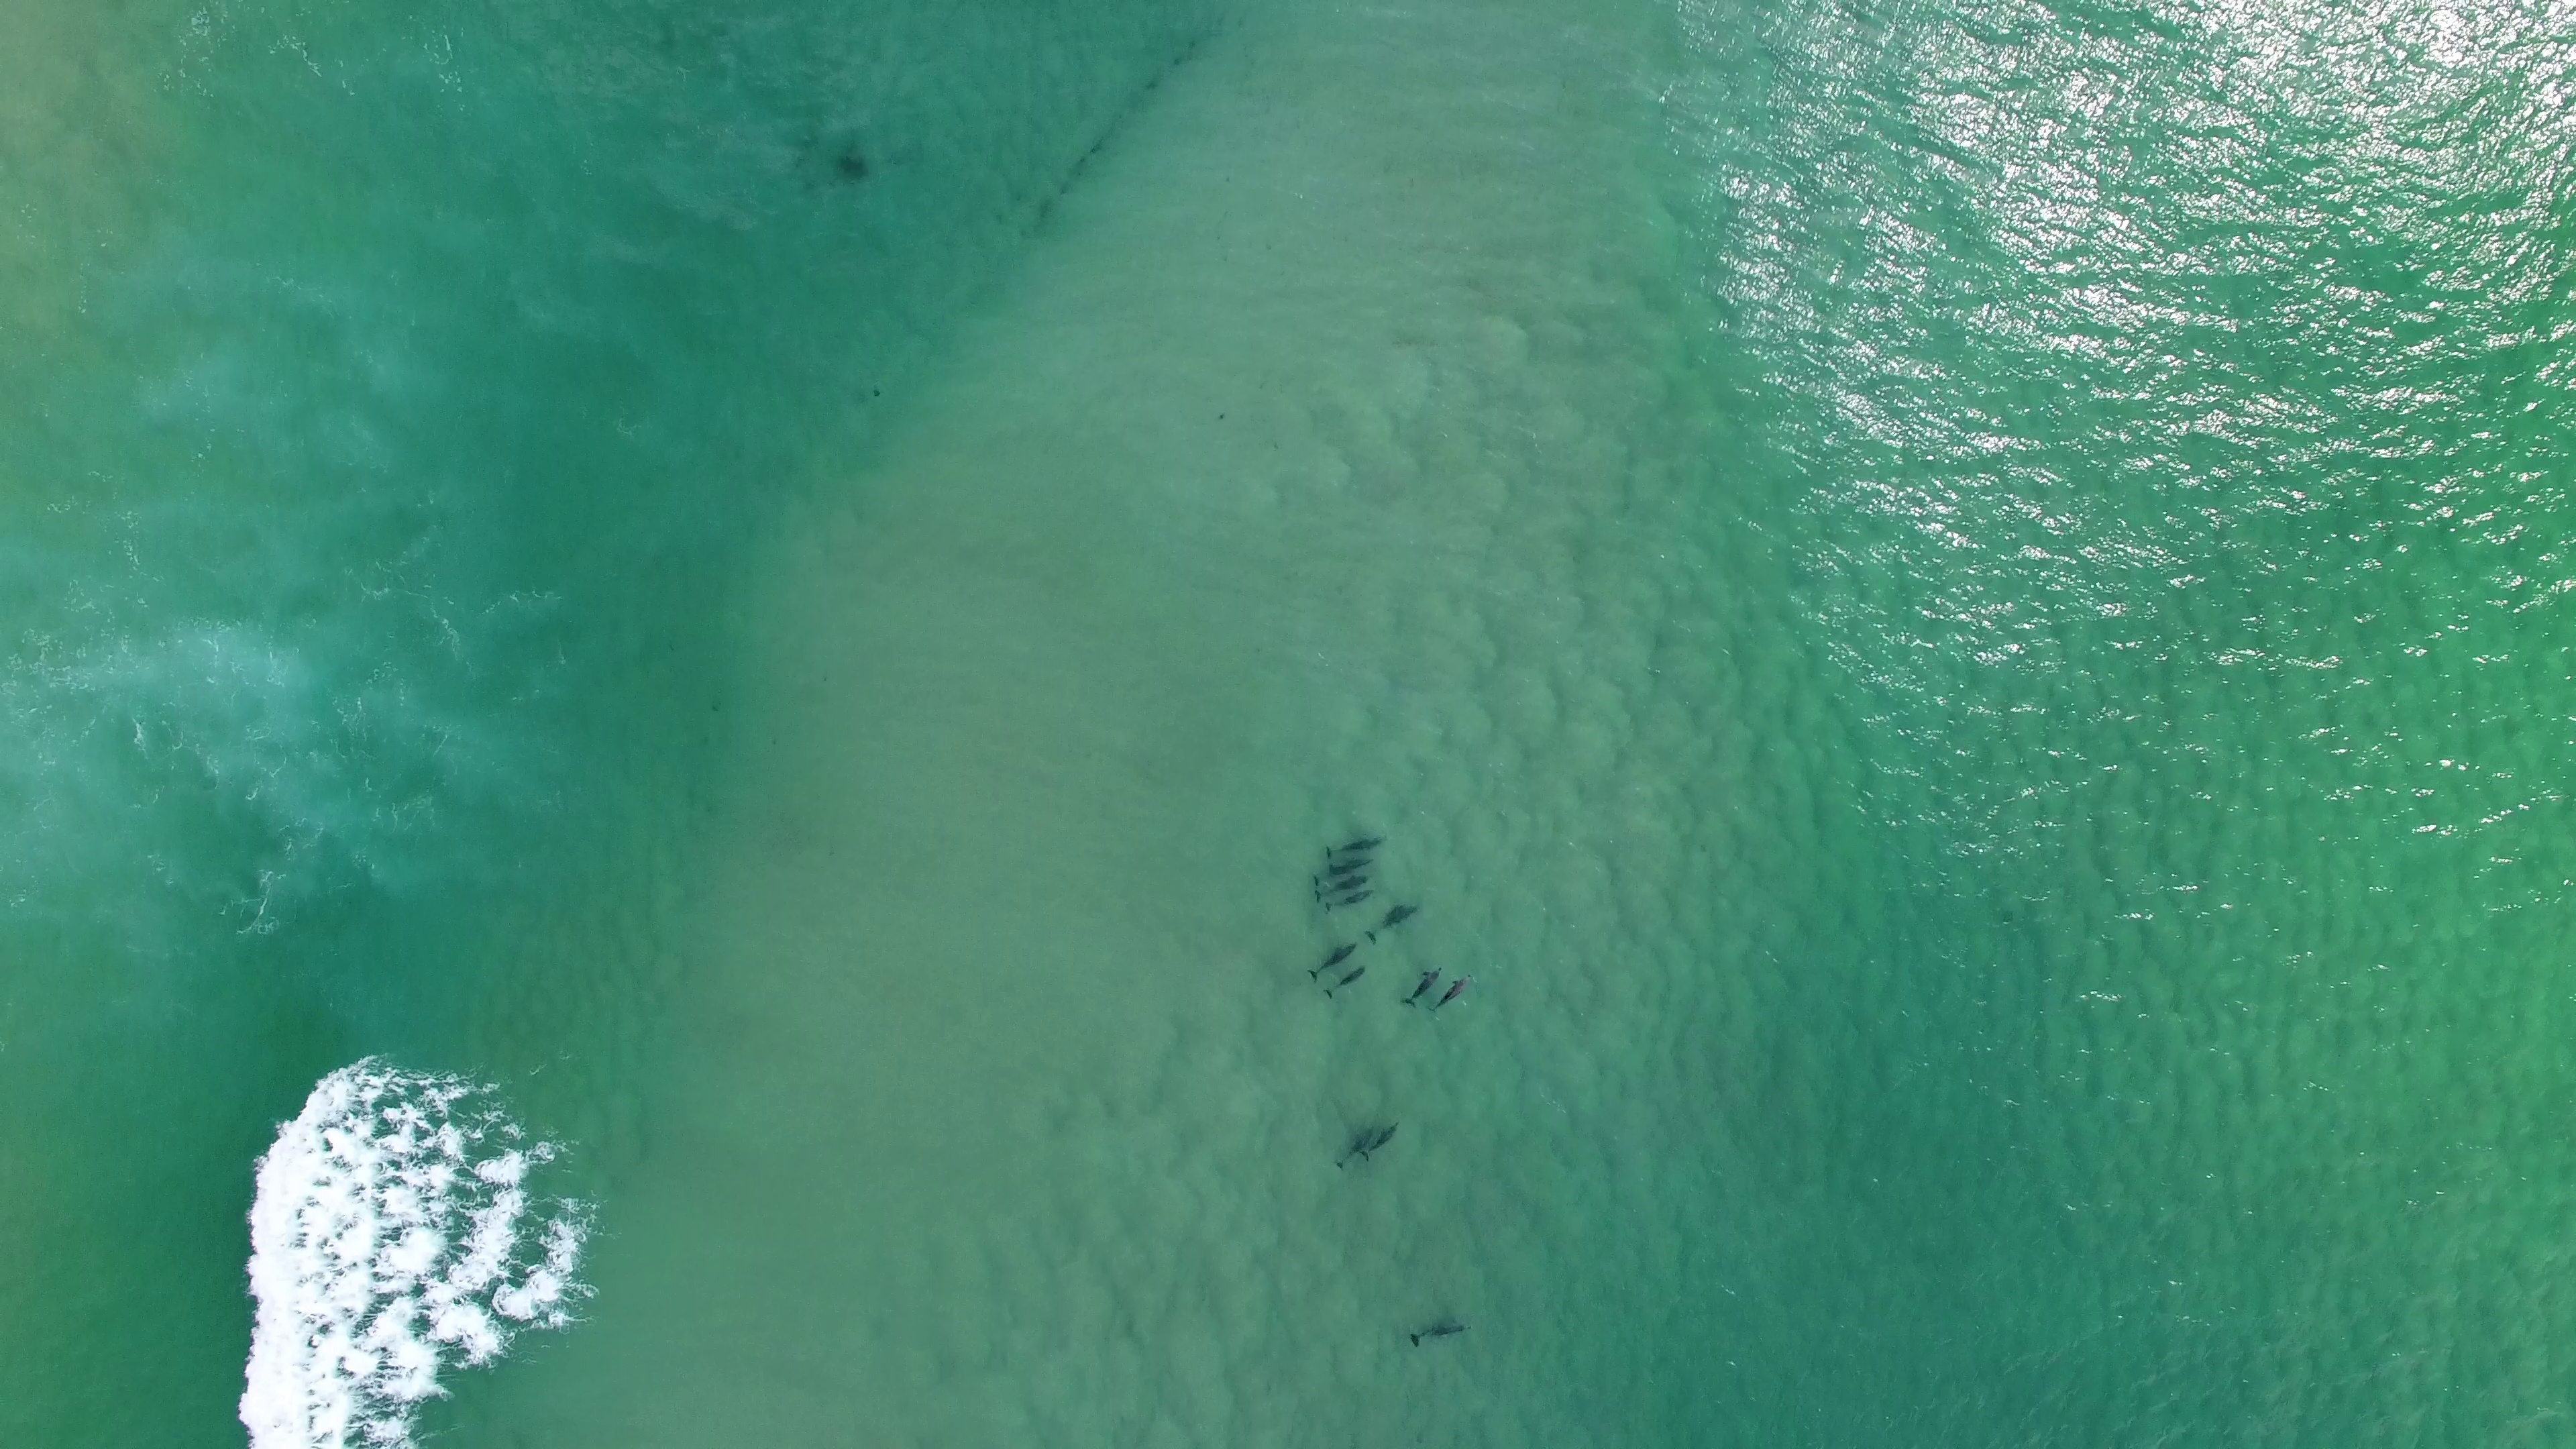dolphin: (1304, 939, 1361, 985), (1364, 902, 1419, 947), (1307, 853, 1375, 888), (1332, 1120, 1380, 1168), (1322, 828, 1389, 860), (1309, 869, 1375, 901), (1357, 1120, 1405, 1162), (1410, 1318, 1474, 1348), (1322, 962, 1368, 1001), (1401, 964, 1444, 1005), (1430, 977, 1474, 1012), (1322, 886, 1376, 913)
